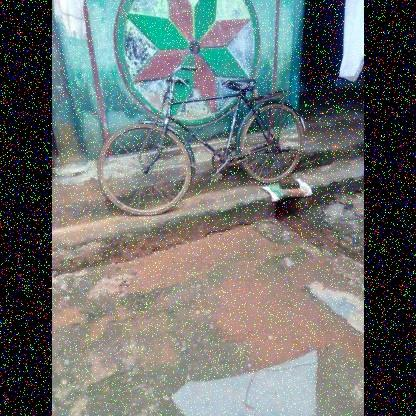Bicycle: (83, 46, 323, 236)
